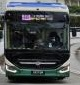bus: (21, 13, 30, 20)
